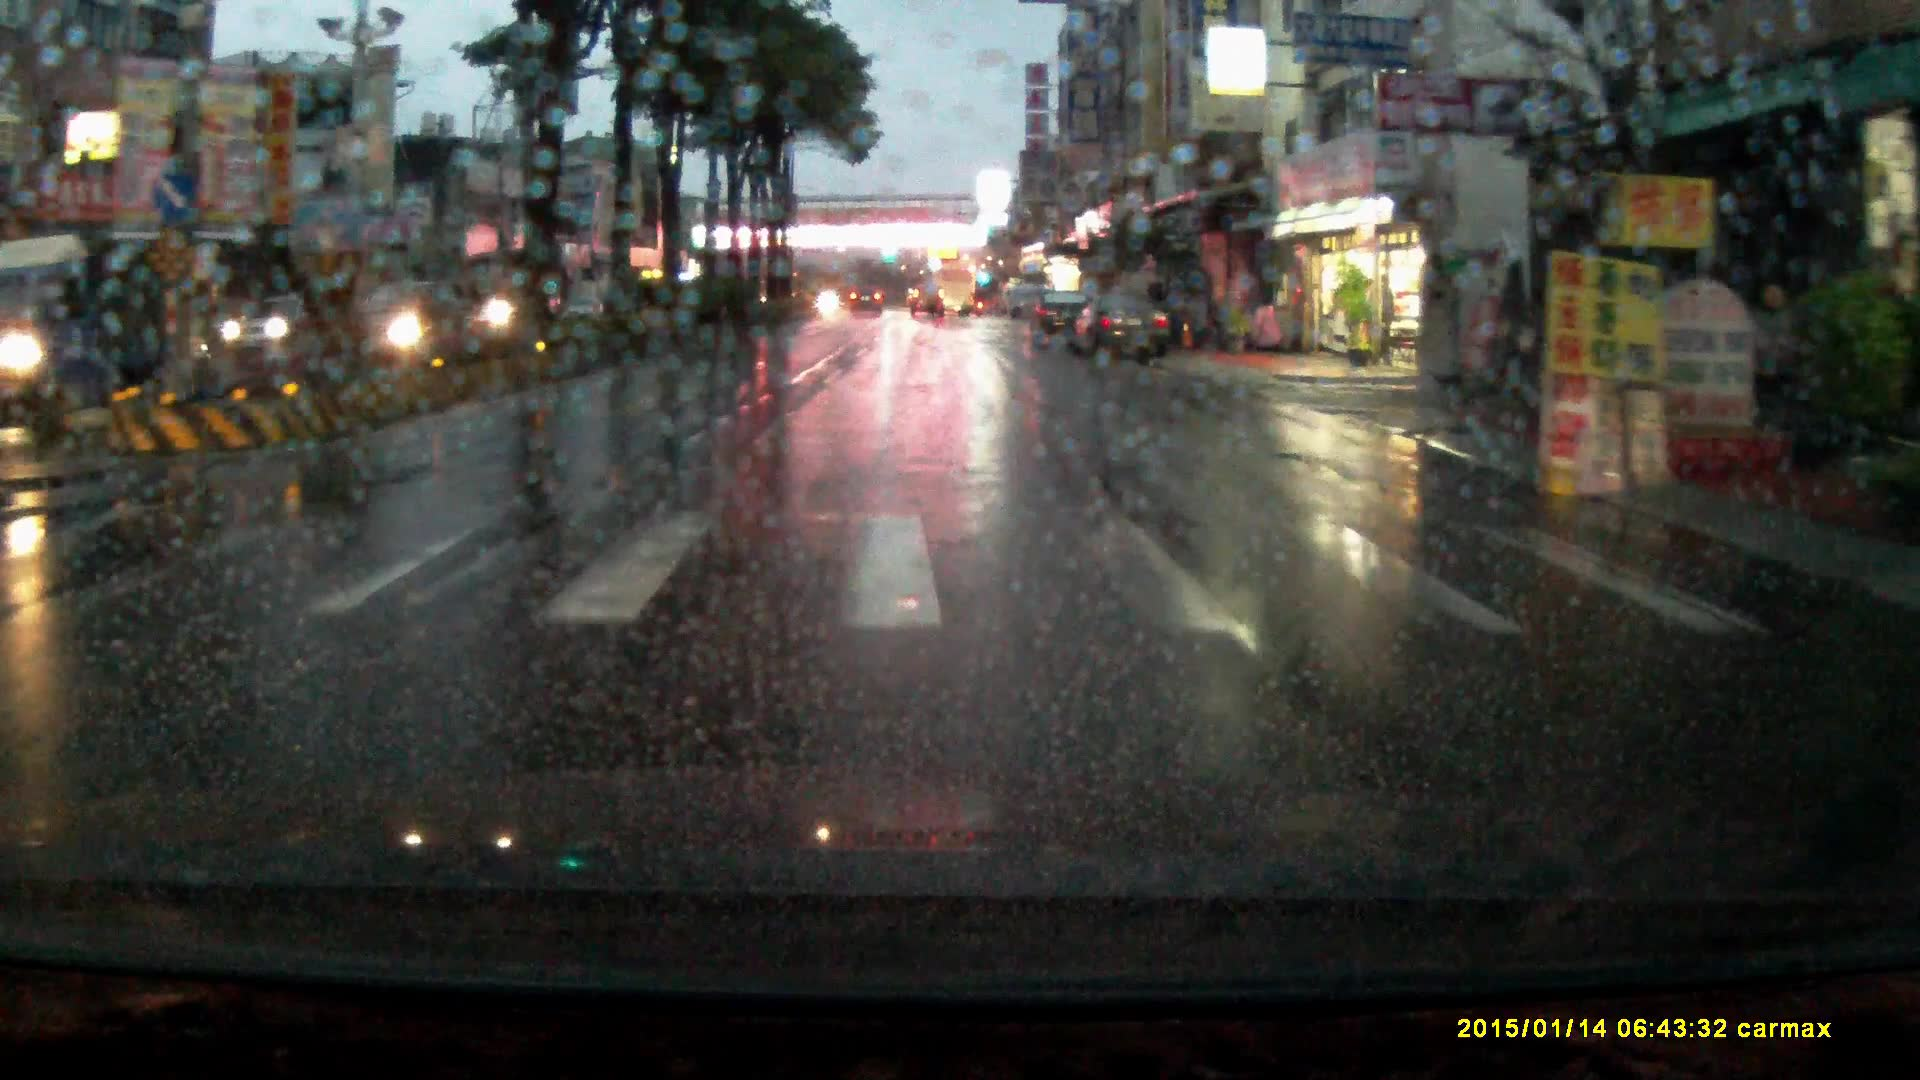rider: (474, 268, 517, 353)
vehicle: (1, 230, 220, 415), (340, 279, 487, 362), (1071, 295, 1176, 369), (222, 299, 317, 363), (1033, 293, 1091, 349), (928, 256, 976, 317), (913, 286, 948, 323), (851, 287, 884, 318)
